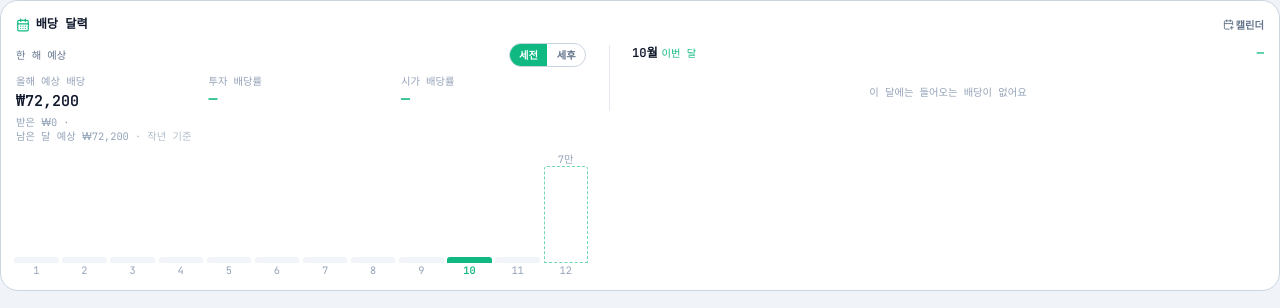
Test case: 배당 달력의 캘린더 단추 › 누르면 .ics 를 받고 몇 개인지 알려 준다
Click the button "캘린더": (1243, 25) [1223,18,1264,32]
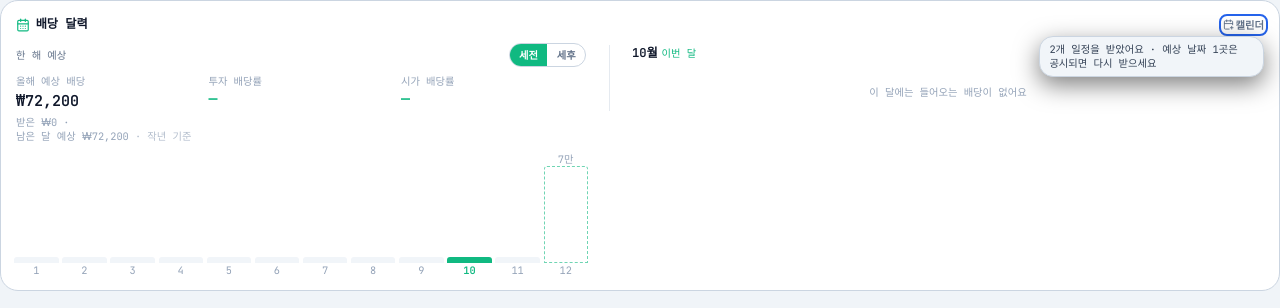
expect the message reads "2개 일정을 받았어요 · 예상 날짜 1곳은 공시되면 다시 받으세요": met, box [1049,42,1238,70]
